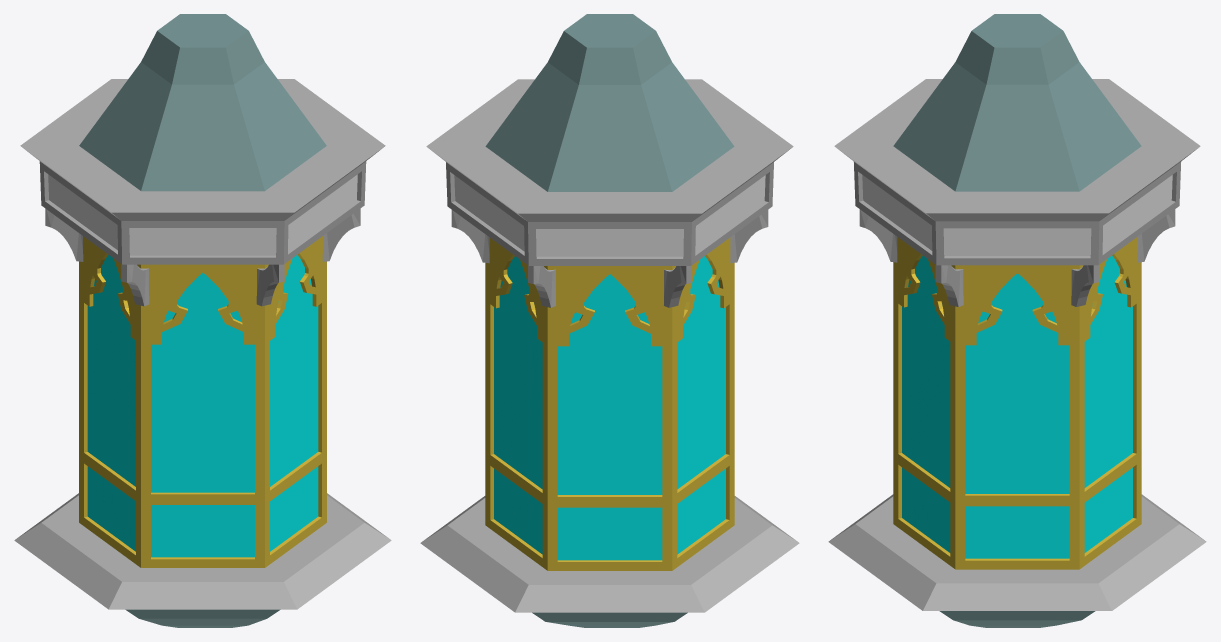
File: Lantern.fbx
The picture shows the model from 3 angles, left to right: view 1: azimuth 30°, elevation 25°; view 2: azimuth 150°, elevation 25°; view 3: azimuth 270°, elevation 25°; orthographic projection.
Parts seen in each view (by area): view 1: Prop_Gothic_Hanging_Lantern_02.003, Prop_Gothic_Hanging_Lantern_02.001, Prop_Gothic_Hanging_Lantern_02.004, Prop_Gothic_Hanging_Lantern_02.002, Prop_Gothic_Hanging_Lantern_02; view 2: Prop_Gothic_Hanging_Lantern_02.003, Prop_Gothic_Hanging_Lantern_02.001, Prop_Gothic_Hanging_Lantern_02.004, Prop_Gothic_Hanging_Lantern_02.002, Prop_Gothic_Hanging_Lantern_02; view 3: Prop_Gothic_Hanging_Lantern_02.003, Prop_Gothic_Hanging_Lantern_02.001, Prop_Gothic_Hanging_Lantern_02.004, Prop_Gothic_Hanging_Lantern_02.002, Prop_Gothic_Hanging_Lantern_02.
Boxes of the visible parts, x1,y1,x2,y2 form: Prop_Gothic_Hanging_Lantern_02.003: (87, 255, 318, 557); Prop_Gothic_Hanging_Lantern_02.001: (14, 79, 391, 609); Prop_Gothic_Hanging_Lantern_02.004: (79, 14, 326, 627); Prop_Gothic_Hanging_Lantern_02.002: (79, 236, 326, 567); Prop_Gothic_Hanging_Lantern_02: (48, 174, 357, 255); Prop_Gothic_Hanging_Lantern_02.003: (494, 256, 725, 560); Prop_Gothic_Hanging_Lantern_02.001: (420, 79, 799, 612); Prop_Gothic_Hanging_Lantern_02.004: (485, 14, 734, 627); Prop_Gothic_Hanging_Lantern_02.002: (485, 237, 734, 570); Prop_Gothic_Hanging_Lantern_02: (454, 175, 765, 256); Prop_Gothic_Hanging_Lantern_02.003: (902, 255, 1132, 558); Prop_Gothic_Hanging_Lantern_02.001: (828, 79, 1206, 610); Prop_Gothic_Hanging_Lantern_02.004: (893, 14, 1141, 627); Prop_Gothic_Hanging_Lantern_02.002: (893, 237, 1141, 569); Prop_Gothic_Hanging_Lantern_02: (862, 175, 1172, 255).
Size of the model in its own units: 113 by 225 by 131.
